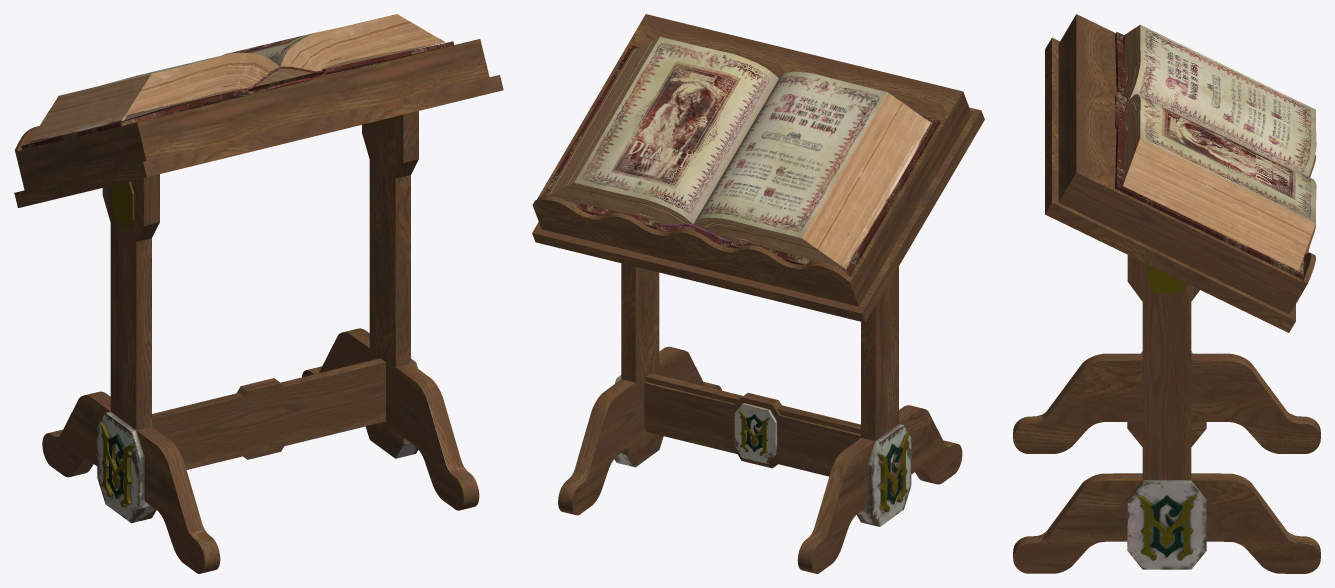
Rendered from haunted_mansion_seance_room_book_and_lectern.glb.
3 renders of one model, left to right at view 1: azimuth 30°, elevation 25°; view 2: azimuth 150°, elevation 25°; view 3: azimuth 270°, elevation 25°, orthographic. The views are drawn at different scales.
Visible parts, largest first — view 1: Book_Stand, Book_Sides, Book_Cover, Book_Page; view 2: Book_Stand, Book_Page, Book_Sides, Book_Cover; view 3: Book_Stand, Book_Page, Book_Sides, Book_Cover.
Part boxes in pixels (x1,y1,x2,y2): Book_Stand: (14,39,503,573); Book_Sides: (28,14,445,143); Book_Cover: (21,41,453,149); Book_Page: (72,18,378,92); Book_Stand: (532,14,984,573); Book_Page: (574,36,887,237); Book_Sides: (547,37,932,269); Book_Cover: (542,45,940,275); Book_Stand: (1013,14,1320,573); Book_Page: (1130,25,1316,223); Book_Sides: (1123,25,1315,270); Book_Cover: (1115,32,1304,279).
Bounding box in the file's own units: 5.31 × 6.45 × 4.19.
Materials: 4 (4 with a texture image).
